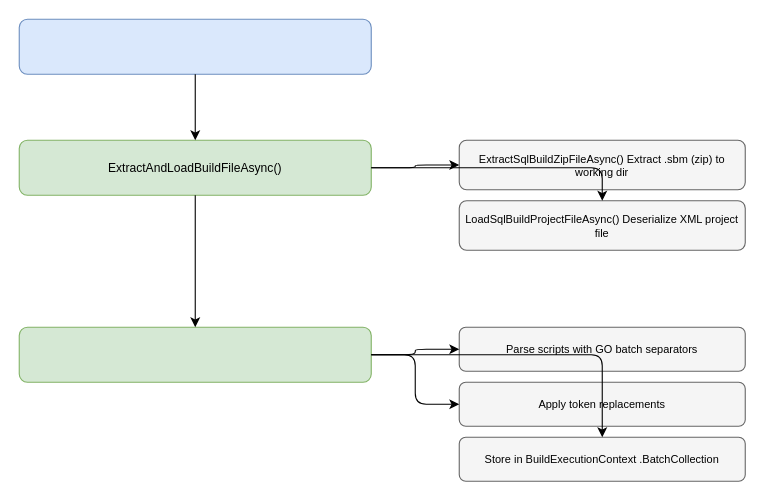
The diagram is 765 pixels wide and 501 high, and some of its shapes have lost their labels. The shapes that lost their labels are listed below. From the top down, each one's centre as x and y in pixels, then its label:
At [194,46]: "PrepBuildAndScriptsAsync()".
At [194,354]: "_scriptBatcher.LoadAndBatchSqlScripts()".
